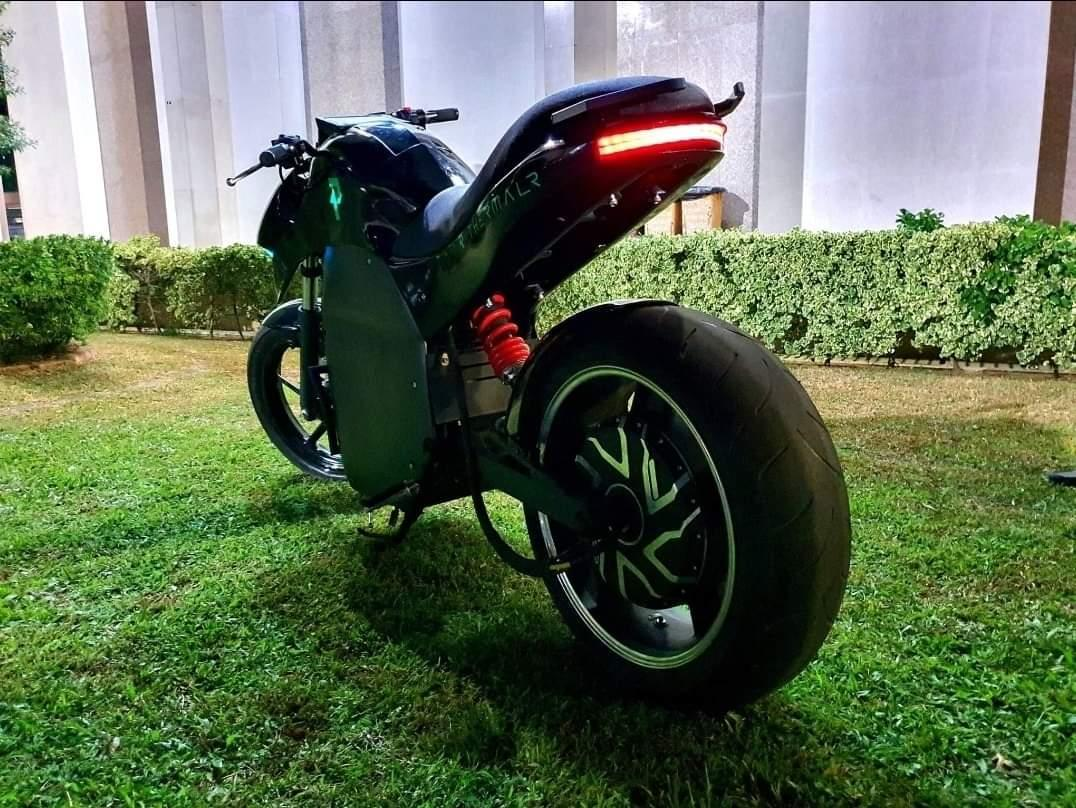motorbike: (226, 75, 853, 709)
